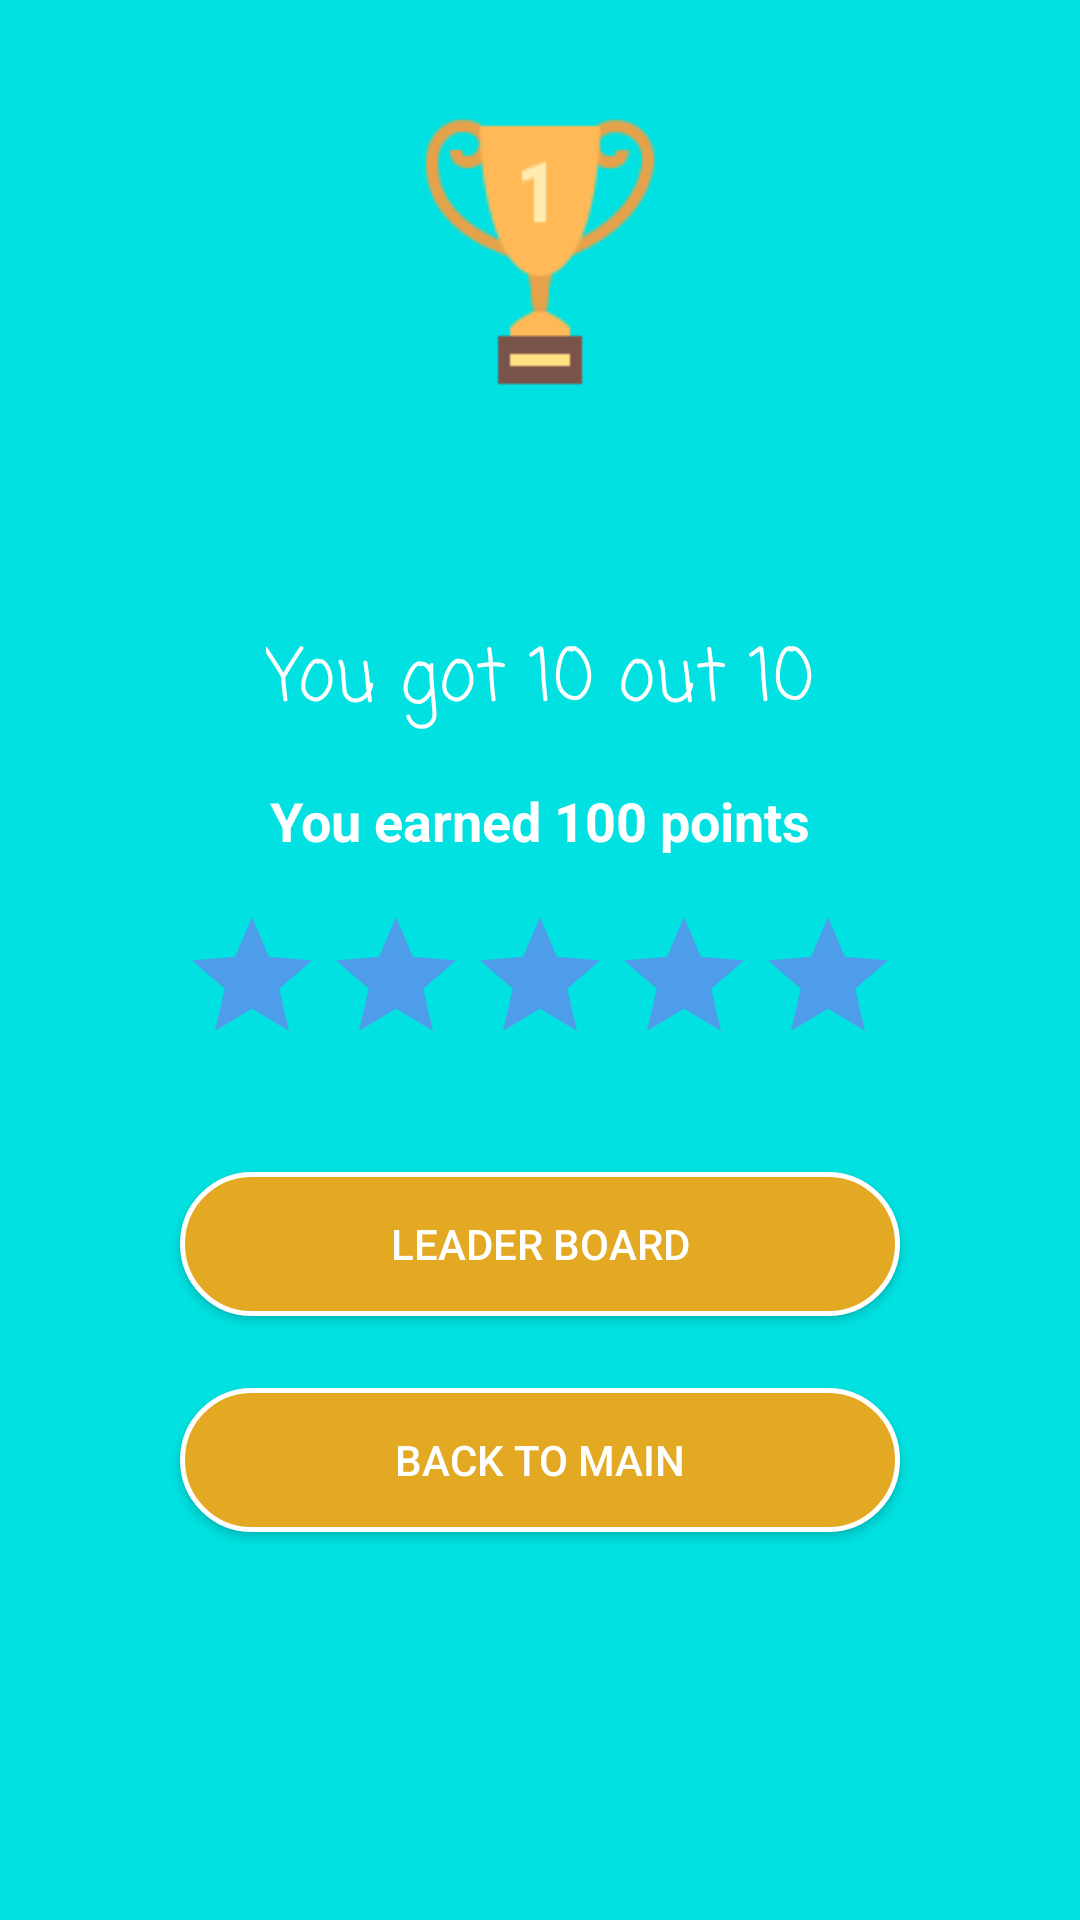

Point at icon controls on the screen. Image size 1080 × 1920, points as point (x, y).
trophy: point (540, 252)
